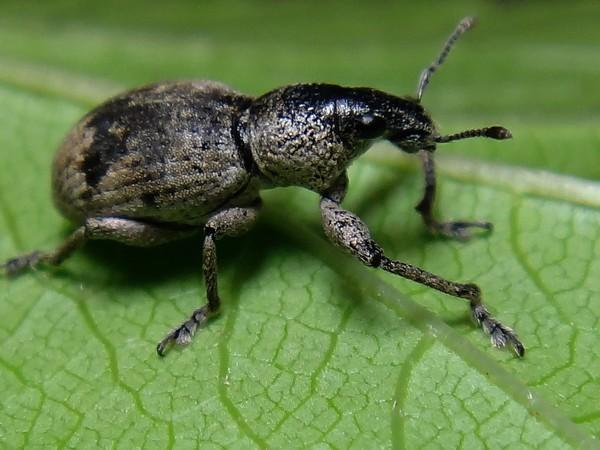Curculionidae: (11, 15, 526, 360)
